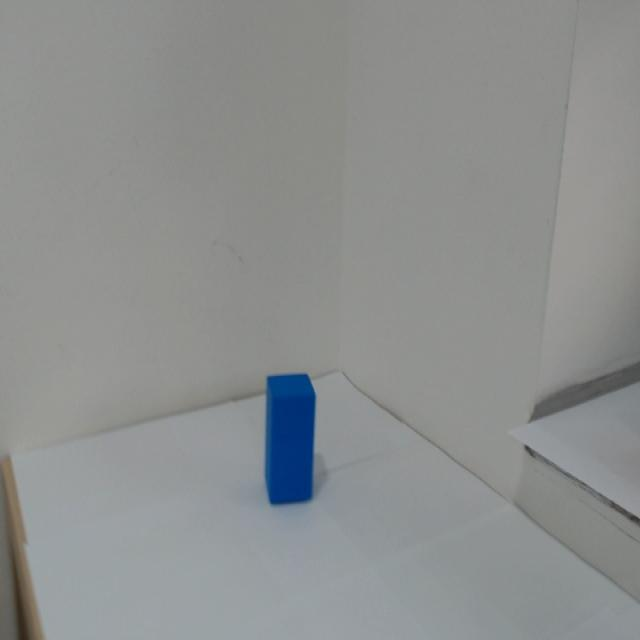cube: (247, 343, 348, 562)
